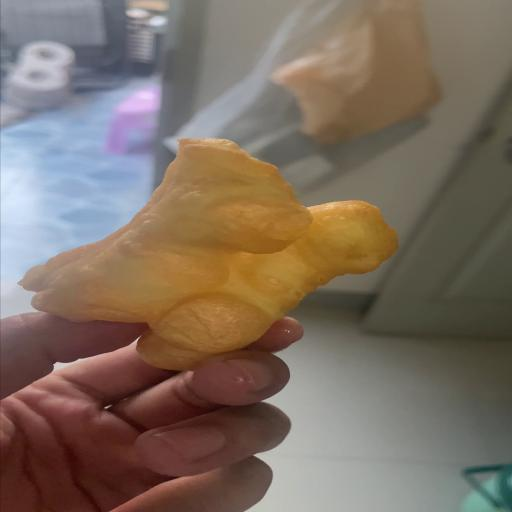street_golden_good: (21, 139, 399, 368)
